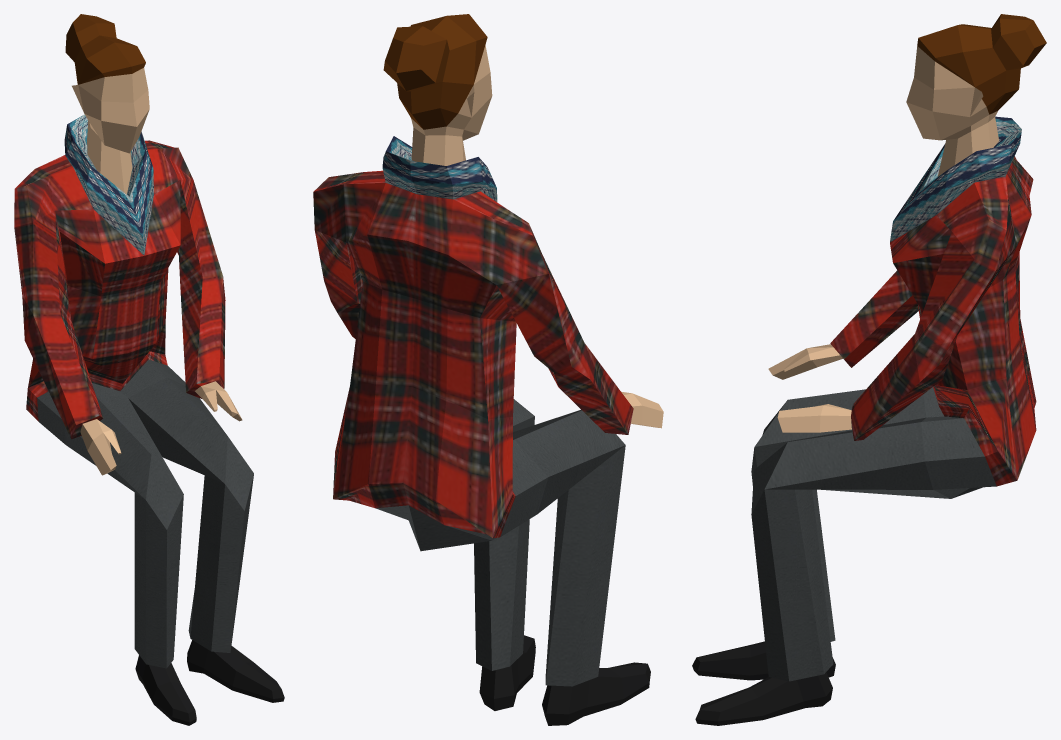
File: AutumnWomanC.006.glb
The picture shows the model from 3 angles, left to right: view 1: azimuth 30°, elevation 25°; view 2: azimuth 150°, elevation 25°; view 3: azimuth 270°, elevation 25°; orthographic projection. The views are drawn at different scales.
Visible parts, largest first — view 1: AutumnWomanC.006; view 2: AutumnWomanC.006; view 3: AutumnWomanC.006.
Part boxes in pixels (x1,y1,x2,y2): AutumnWomanC.006: (14,14,284,725); AutumnWomanC.006: (313,14,663,725); AutumnWomanC.006: (692,14,1046,725).
Bounding box in the file's own units: 0.4748 × 1.36 × 0.6471.
Materials: 1 (1 with a texture image).
